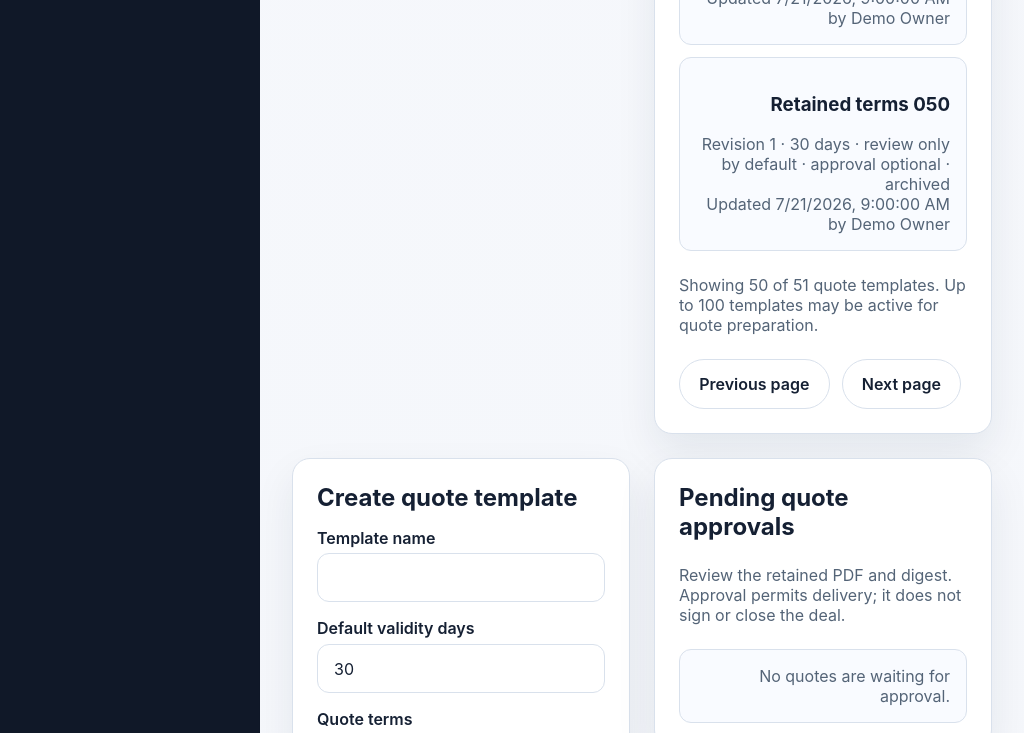
Scenario: settings quote templates route › pages and searches retained quote template history without hiding active selection capacity
(page scrolled)
Expected: the heading "Retained terms 051" is not shown
Expected: the text "Showing 50 of 51 quote templates" is shown, [679,275,967,335]
Click the button "Next page": click(901, 384) [842,359,961,409]
(page scrolled)
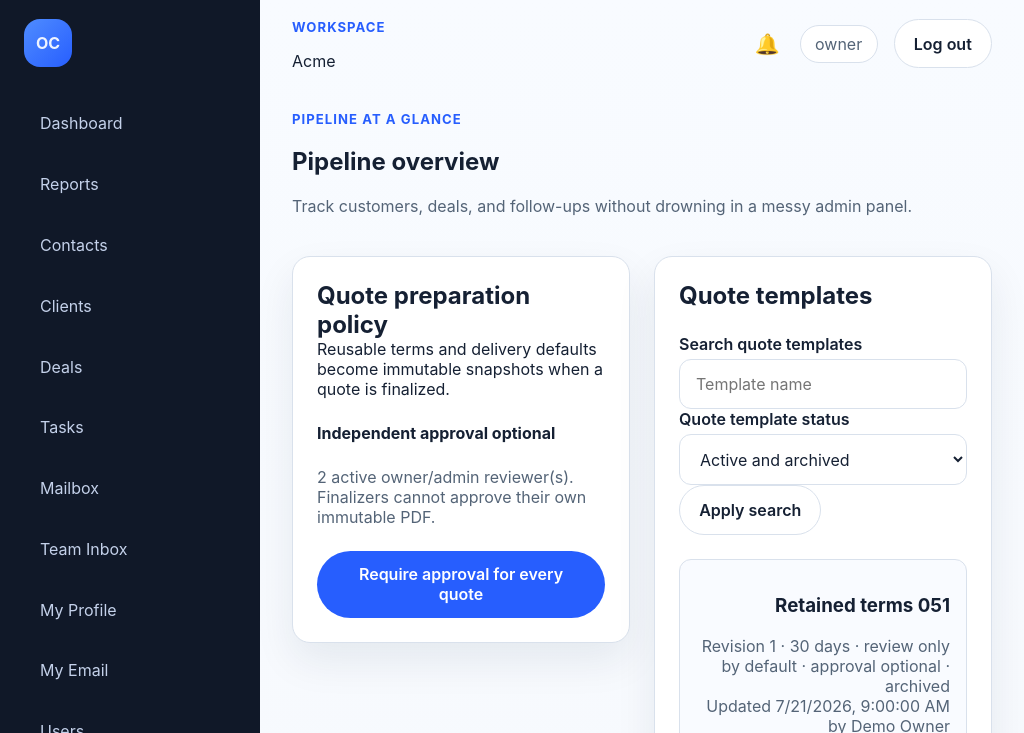
Expected: the heading "Retained terms 051" is shown, [775,594,950,617]
In the field labelled "Search quote templates": (823, 384) [679,359,967,409], type "Retained terms 051"
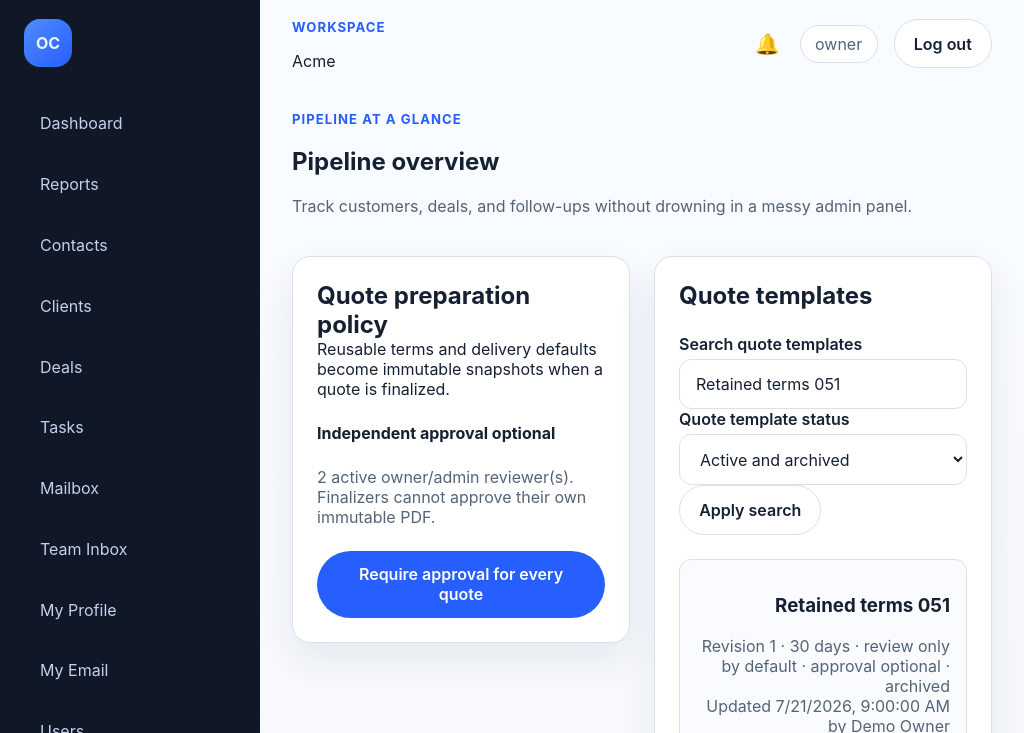
Click the button "Apply search": click(750, 510) [679,485,822,535]
(page scrolled)
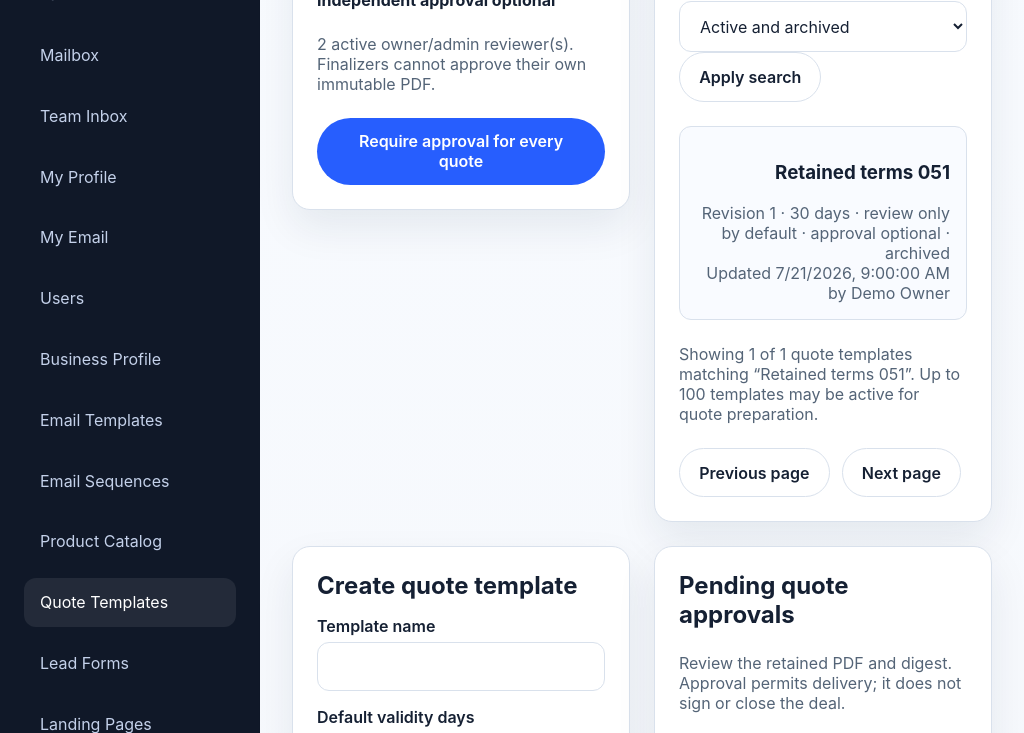
Expected: the text "Up to 100 templates may be active" is shown, [679,364,960,424]
Expected: the text "Showing 1 of 1 quote templates matching" is shown, [679,344,967,424]
